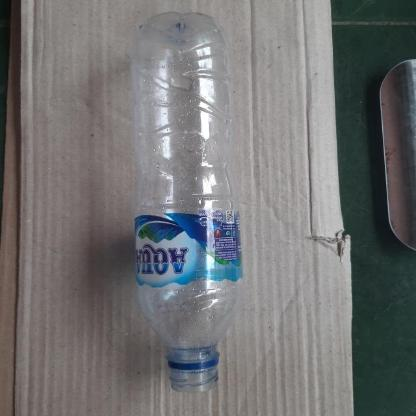Plastic Bottle: (130, 11, 242, 393)
